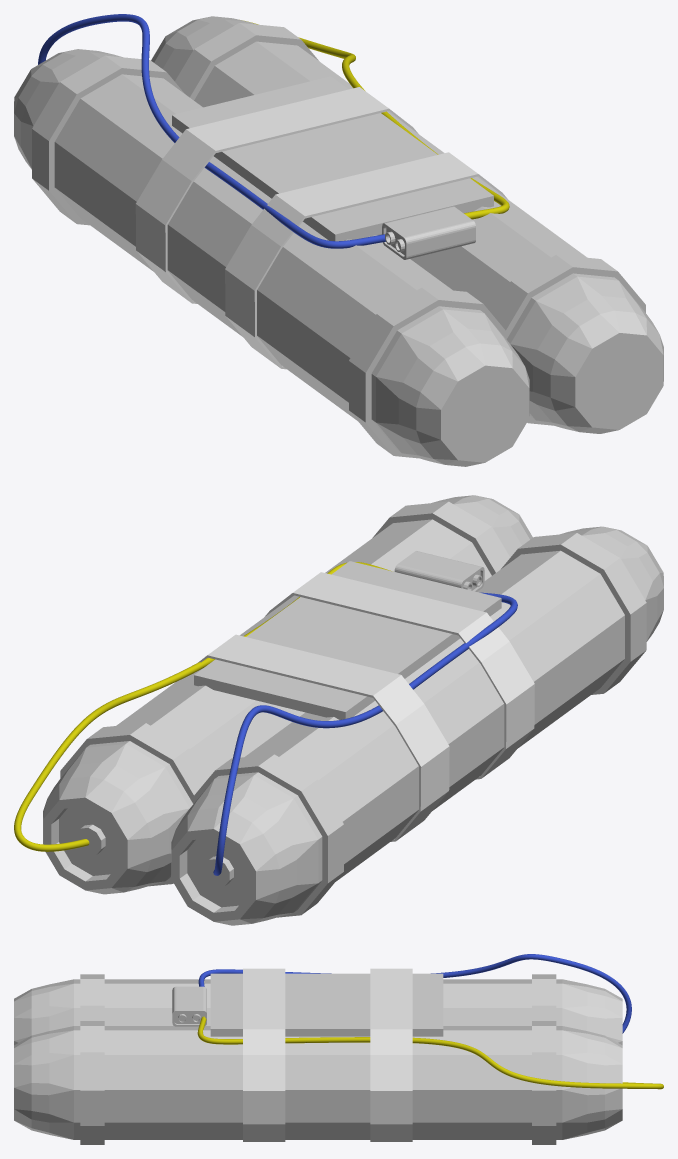
File: IED.fbx
3 views of the same model, one above another, from view 1: azimuth 30°, elevation 25°; view 2: azimuth 150°, elevation 25°; view 3: azimuth 270°, elevation 25° (orthographic). The views are drawn at different scales.
Visible parts, largest first — view 1: Cylinder.001, Cube.001, BezierCurve.001, BezierCurve; view 2: Cylinder.001, Cube.001, BezierCurve.001, BezierCurve; view 3: Cylinder.001, Cube.001, BezierCurve, BezierCurve.001.
Part boxes in pixels (x1,y1,x2,y2): Cylinder.001: (14, 16, 663, 466); Cube.001: (135, 87, 507, 369); BezierCurve.001: (38, 14, 385, 248); BezierCurve: (244, 20, 509, 219); Cylinder.001: (43, 495, 663, 925); Cube.001: (198, 572, 534, 841); BezierCurve.001: (213, 592, 517, 875); BezierCurve: (14, 562, 391, 851); Cylinder.001: (14, 973, 622, 1144); Cube.001: (243, 968, 412, 1141); BezierCurve: (197, 1016, 663, 1089); BezierCurve.001: (198, 954, 631, 1033).
Size of the model in its own units: 48.59 by 32.74 by 132.
